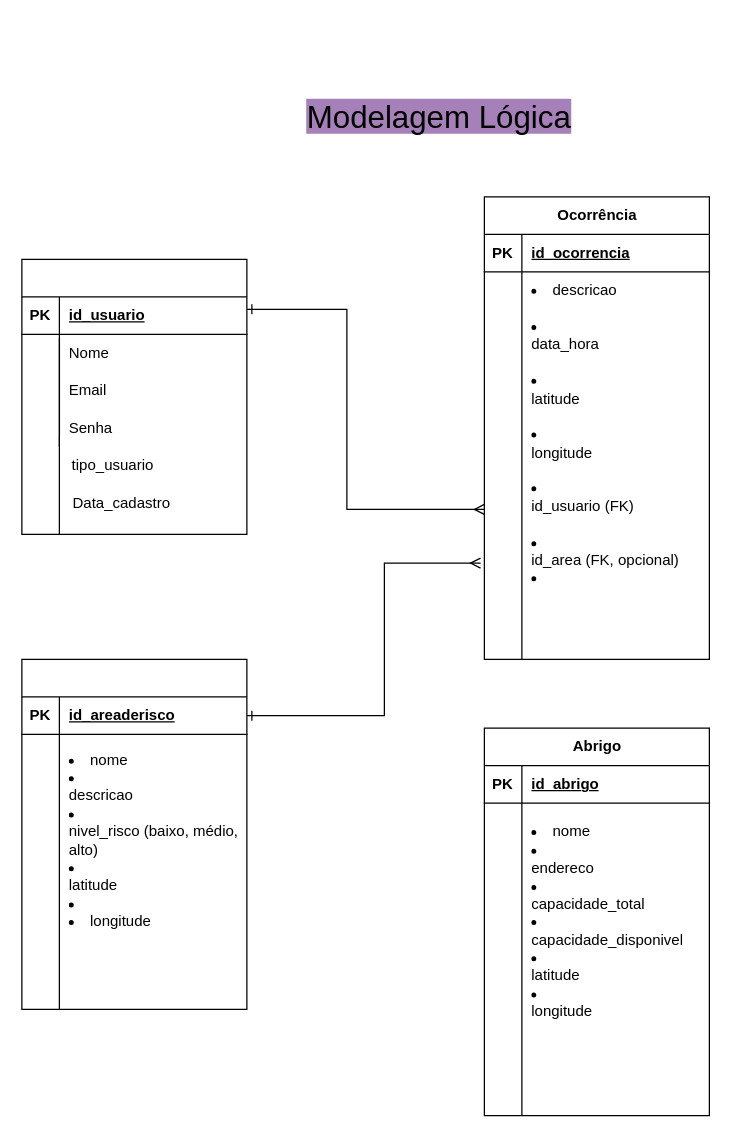
The diagram is 731 pixels wide and 1138 high, and some of its shapes have lost their labels. The box of each missing label's shape, as (x1, y1, x2, y2) in pixels:
Usuário: (21, 258, 247, 534)
Área de risco: (21, 658, 247, 1009)
